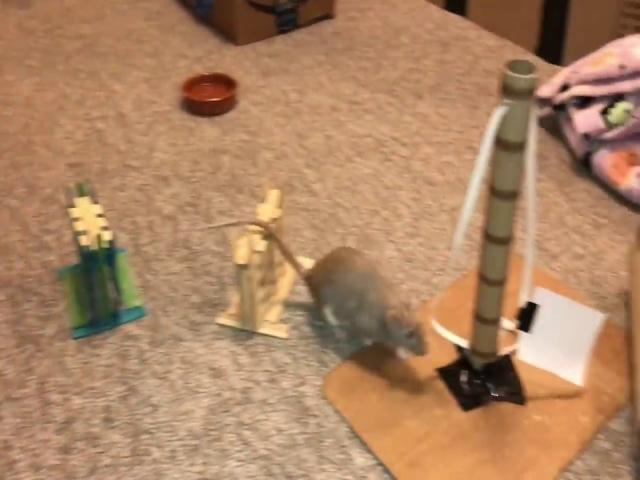Tikus: (303, 243, 432, 361)
